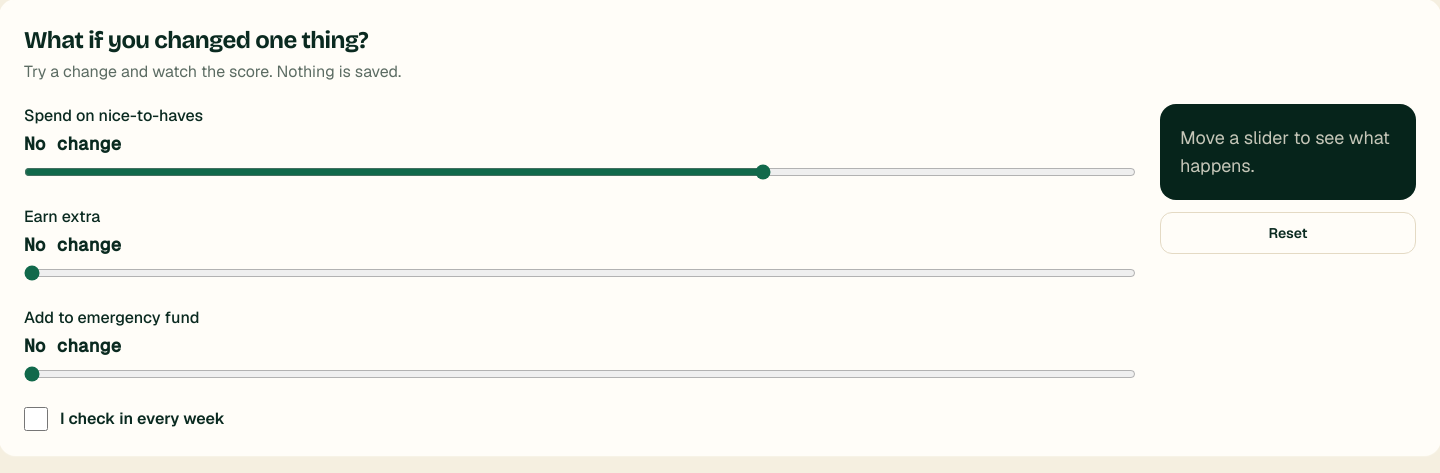
WhatIf panel › WI-U3: Reset puts every control back to "no change" and clears the result
Set the slider labelled "Spend on nice-to-haves" to "-5000" at (658, 172), box x1=24 y1=166 x2=1136 y2=178
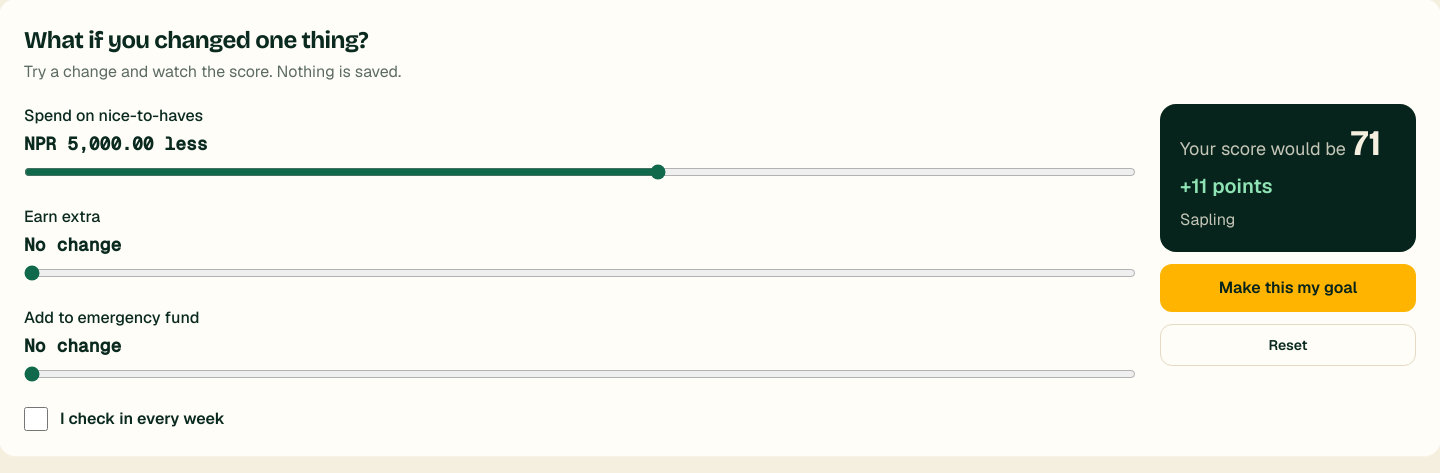
Expected: the message named "what-if result" shows "would be 71", x1=1160 y1=104 x2=1416 y2=252
Click the button "Reset" at (1288, 345), box x1=1160 y1=324 x2=1416 y2=366
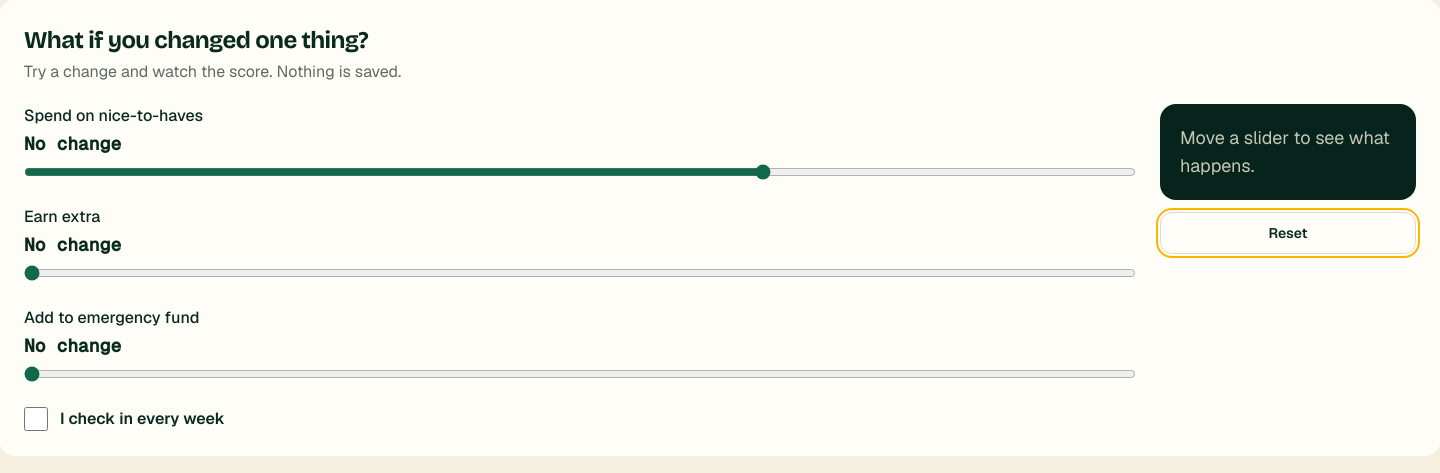
Expected: the slider labelled "Spend on nice-to-haves" holds "0", x1=24 y1=166 x2=1136 y2=178
Expected: the text "Move a slider to see what happens." is shown, x1=1180 y1=124 x2=1396 y2=180
